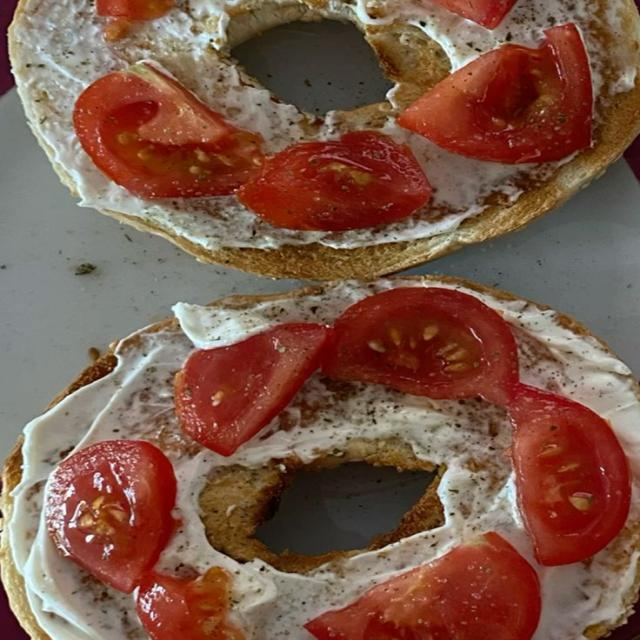sliced_bread: (10, 0, 639, 279), (99, 79, 639, 281), (198, 437, 443, 573), (0, 436, 49, 639), (46, 346, 115, 410), (597, 0, 639, 48), (410, 494, 434, 523), (561, 314, 591, 335)
sliced_tomato: (398, 24, 593, 163), (74, 62, 263, 198), (305, 533, 540, 639), (323, 288, 518, 403), (508, 384, 630, 565), (175, 323, 331, 455), (46, 440, 176, 593), (238, 131, 432, 230), (137, 567, 245, 639), (432, 0, 516, 29), (96, 0, 174, 20)
